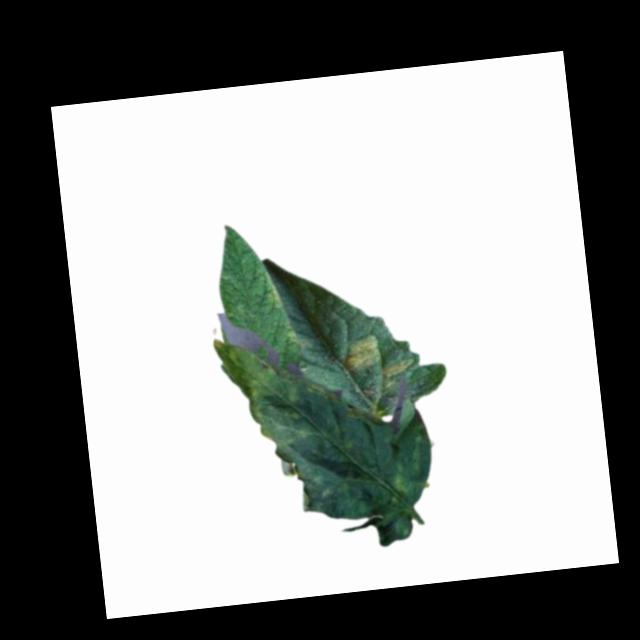Leaf_Mold: (205, 315, 441, 565), (343, 334, 383, 373), (377, 353, 419, 390), (260, 268, 285, 311)
